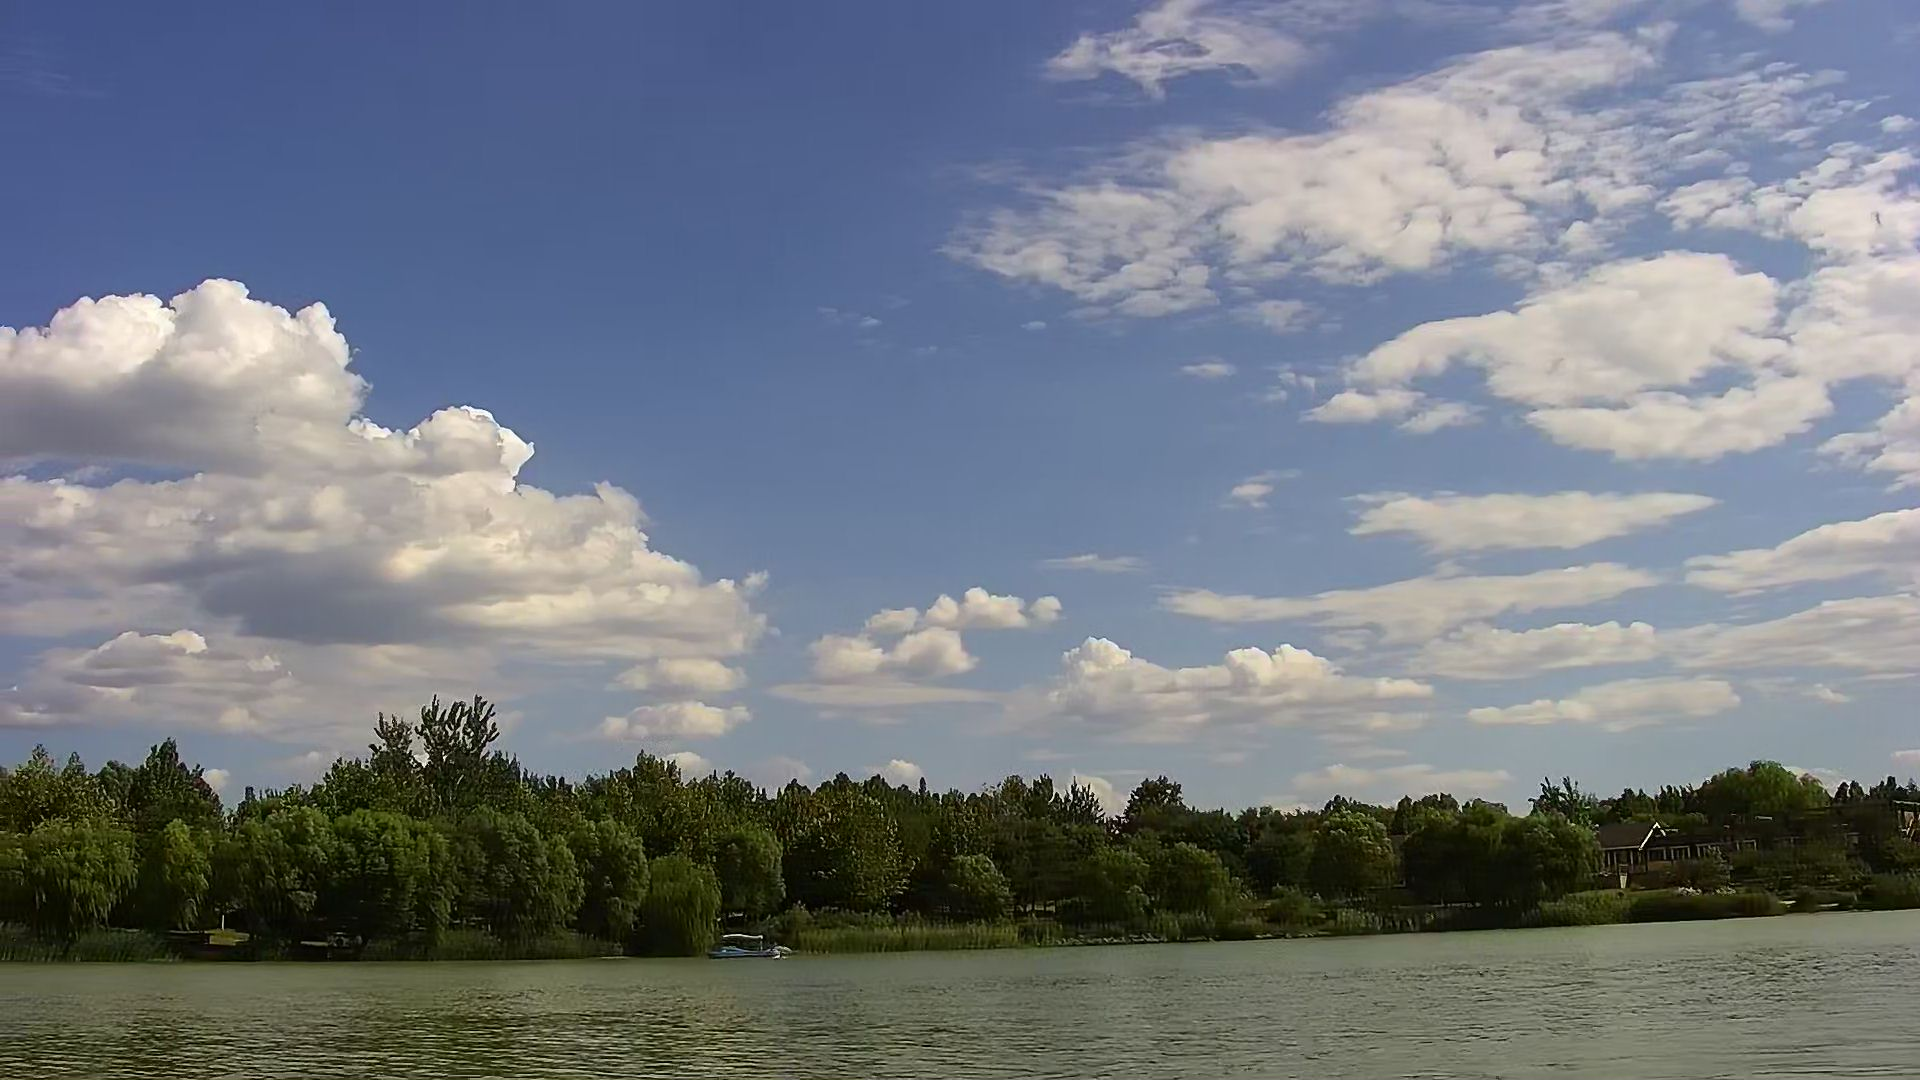boat: (711, 927, 766, 957)
